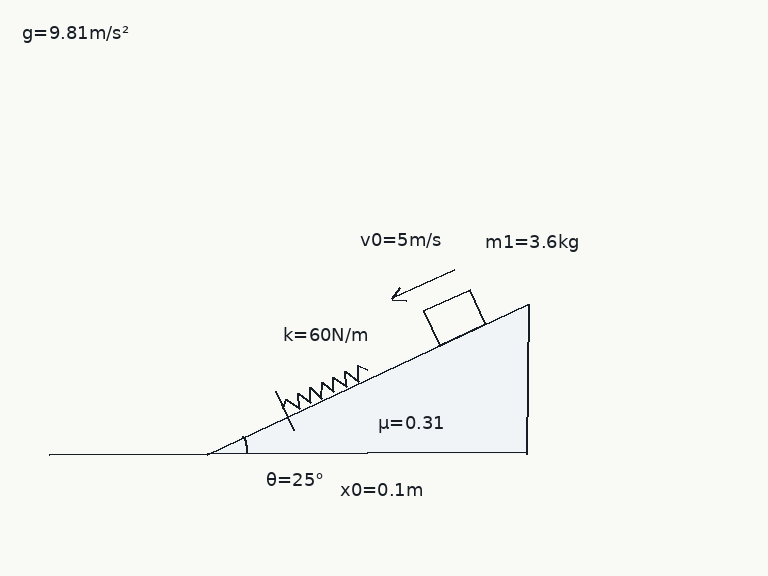block: (421, 288, 487, 347)
ramp: (205, 302, 529, 455)
spring: (281, 363, 368, 410)
